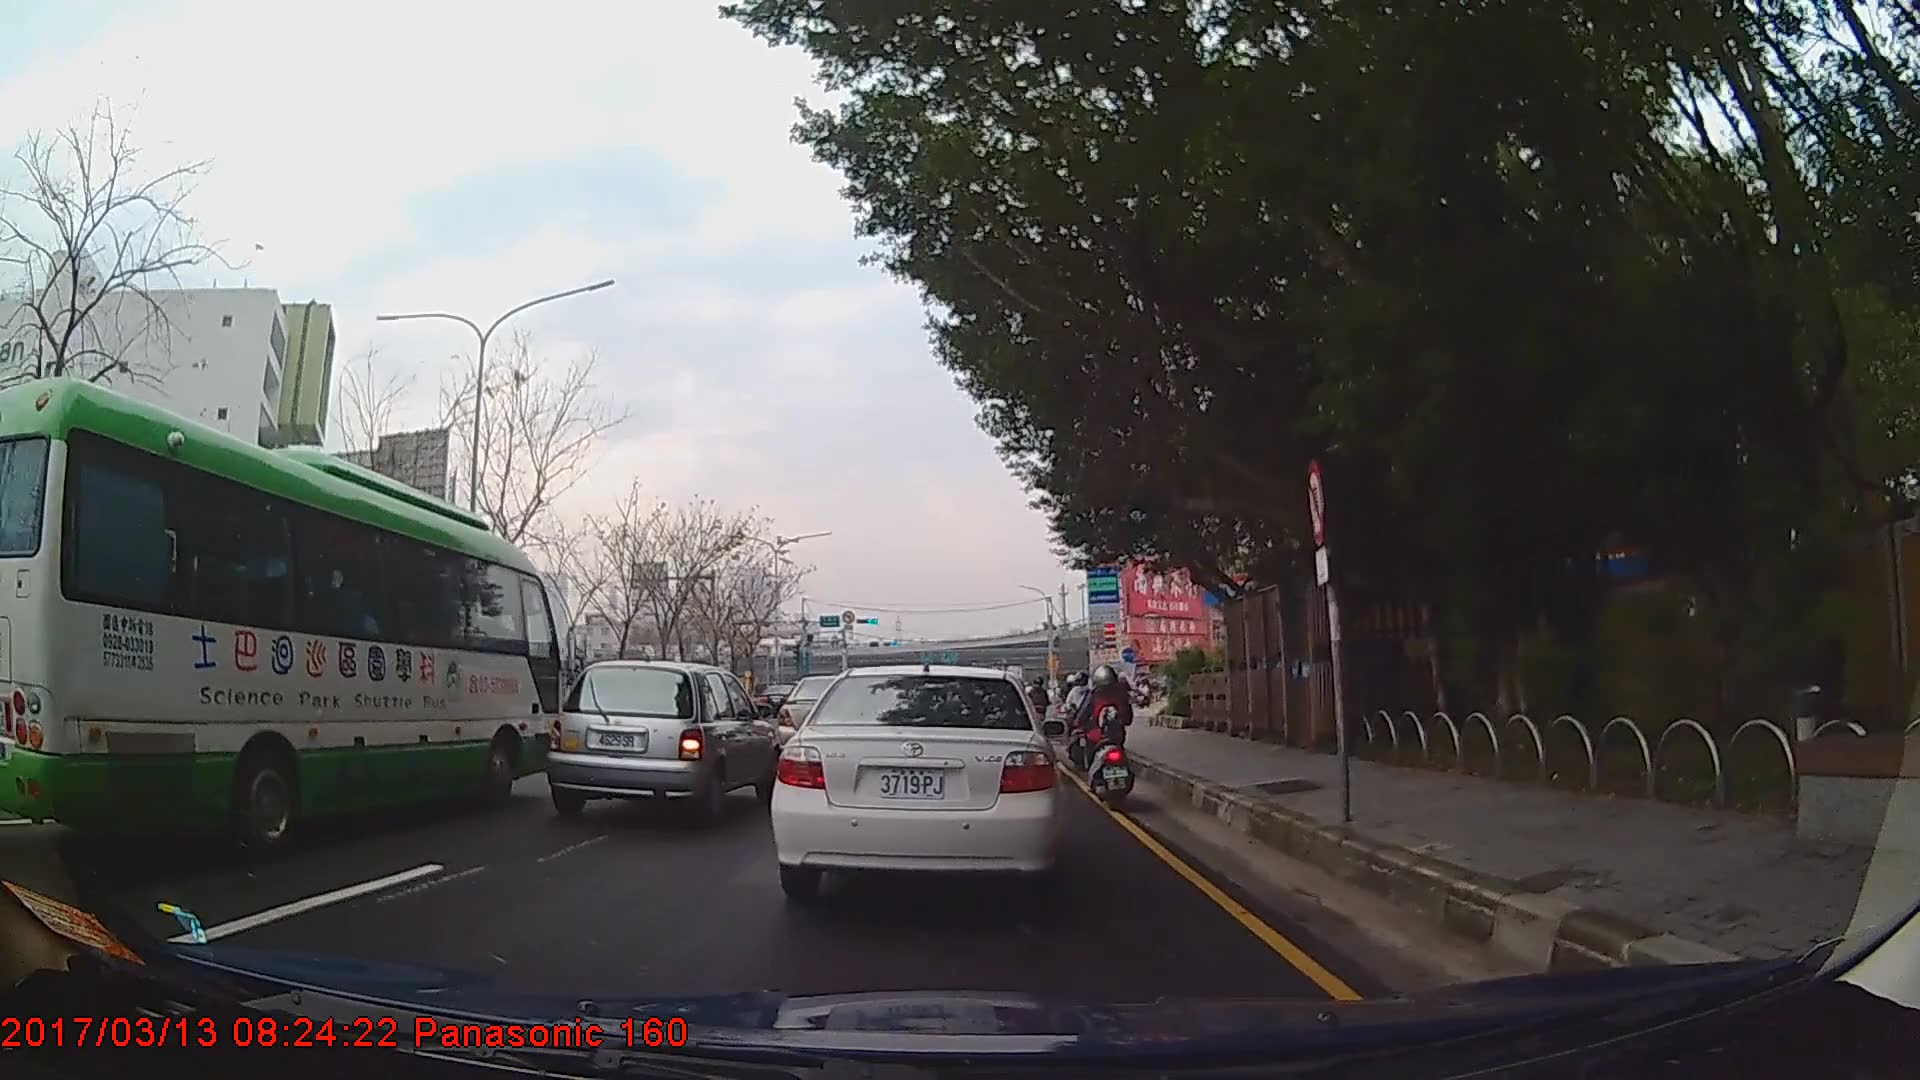rider: (1079, 660, 1134, 811), (1064, 670, 1101, 774), (1027, 675, 1052, 732)
vehicle: (1, 373, 559, 853), (769, 663, 1064, 898), (545, 657, 779, 829), (756, 682, 799, 715)
